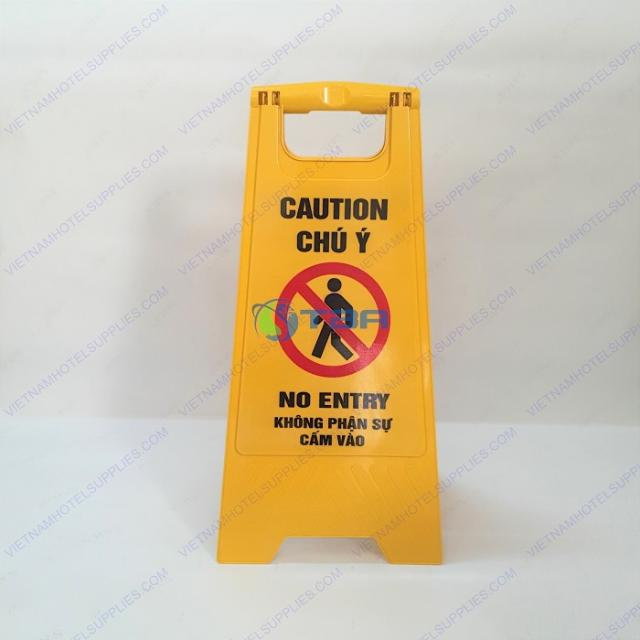no_entry: (218, 81, 441, 563)
